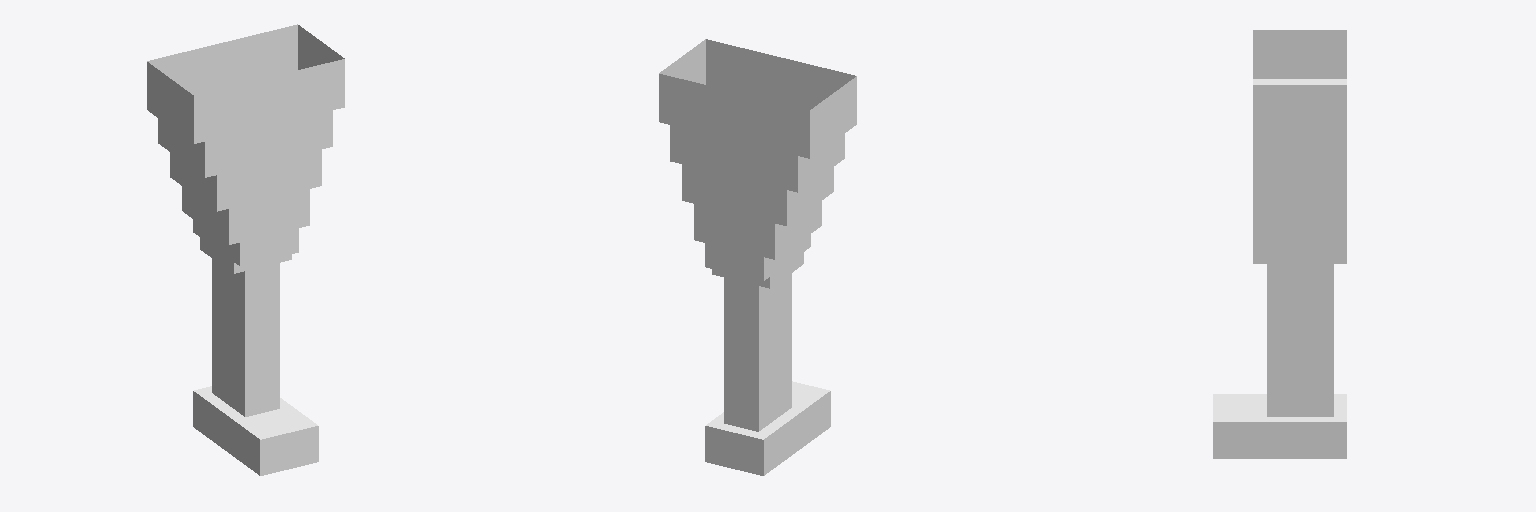
The model's file is PiernaIzq.obj.
3 views of the same model, side by side, from view 1: azimuth 30°, elevation 25°; view 2: azimuth 150°, elevation 25°; view 3: azimuth 270°, elevation 25° (orthographic).
Visible parts, largest first — view 1: EdnaModaFINAL; view 2: EdnaModaFINAL; view 3: EdnaModaFINAL.
Part boxes in pixels (x1,y1,x2,y2): EdnaModaFINAL: (147, 24, 344, 475); EdnaModaFINAL: (659, 39, 856, 475); EdnaModaFINAL: (1213, 30, 1346, 458).
Size of the model in its own units: 1.3 by 3.1 by 1.